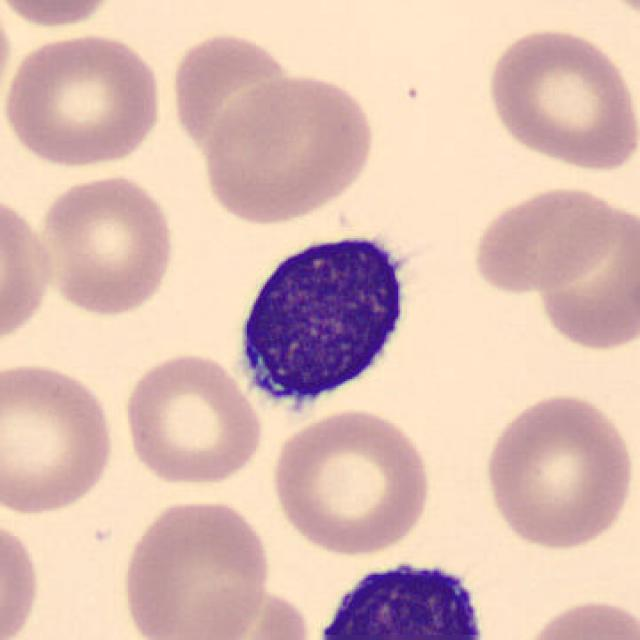Lymphocyte: (226, 217, 423, 427), (298, 548, 500, 640)
RBC: (197, 70, 379, 226), (478, 388, 636, 553), (266, 406, 436, 557), (0, 28, 165, 171), (482, 23, 636, 174), (117, 493, 275, 640), (34, 171, 178, 319), (119, 347, 267, 490), (0, 358, 119, 518), (468, 182, 630, 296), (165, 25, 299, 162), (530, 192, 638, 354), (0, 187, 59, 356), (181, 583, 316, 640), (516, 594, 638, 640), (0, 511, 43, 640), (0, 0, 128, 32), (0, 4, 14, 125)
